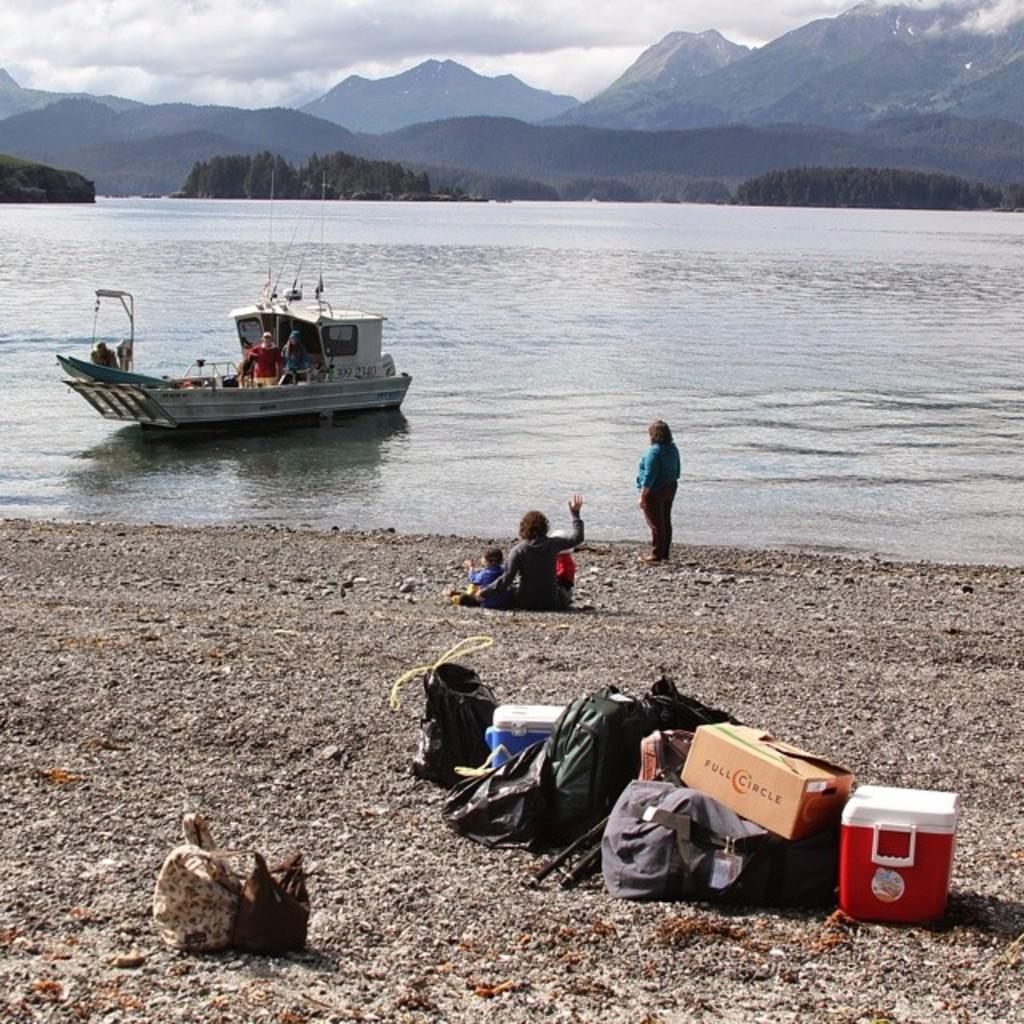Luggage-and-bags: (392, 630, 850, 918), (154, 811, 229, 947), (232, 853, 310, 963)
